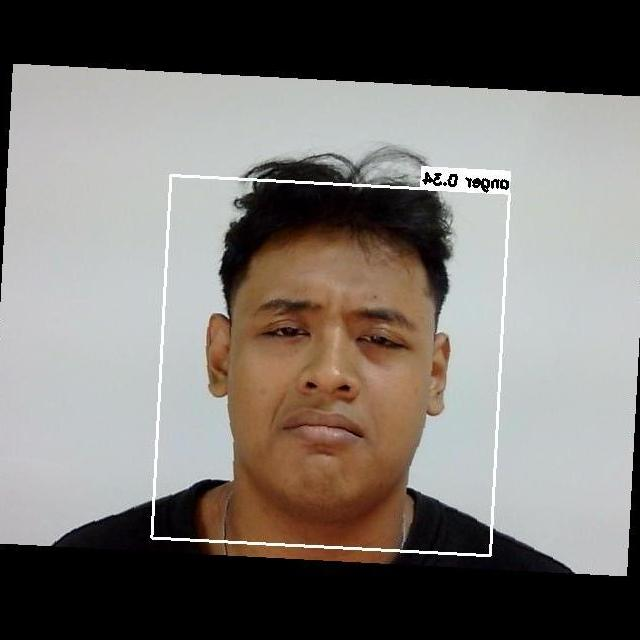Sad: (208, 275, 435, 494)
